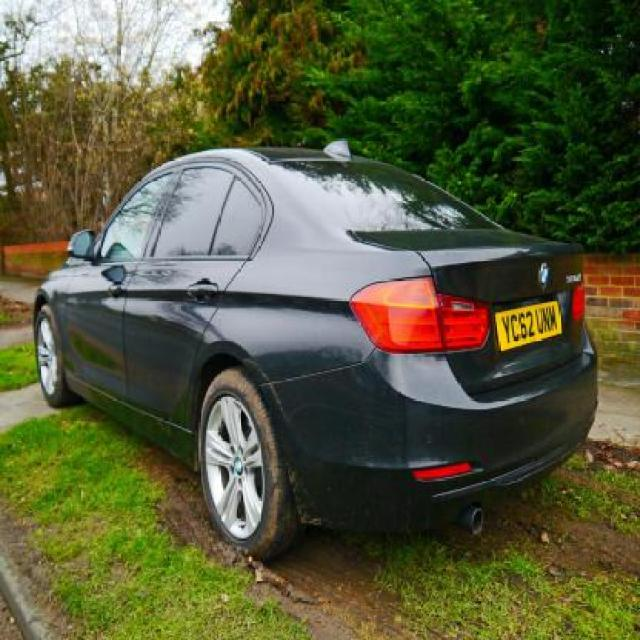License-Plates: (495, 299, 562, 352)
